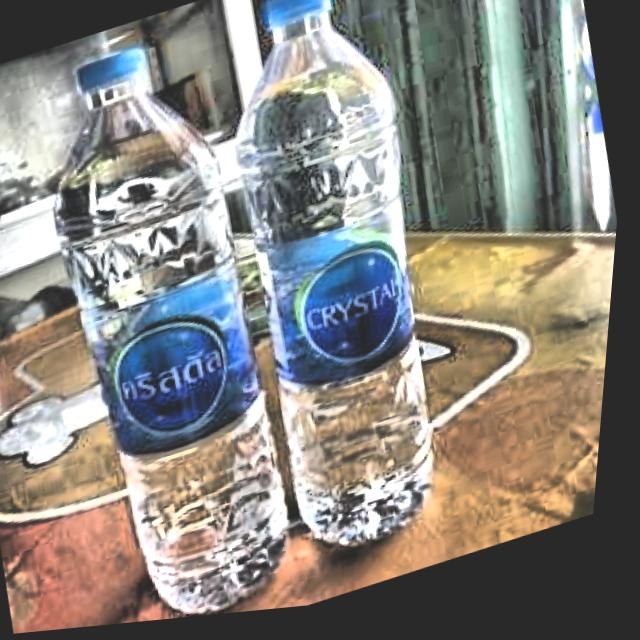Bottles: (0, 7, 353, 638), (173, 0, 510, 599)
